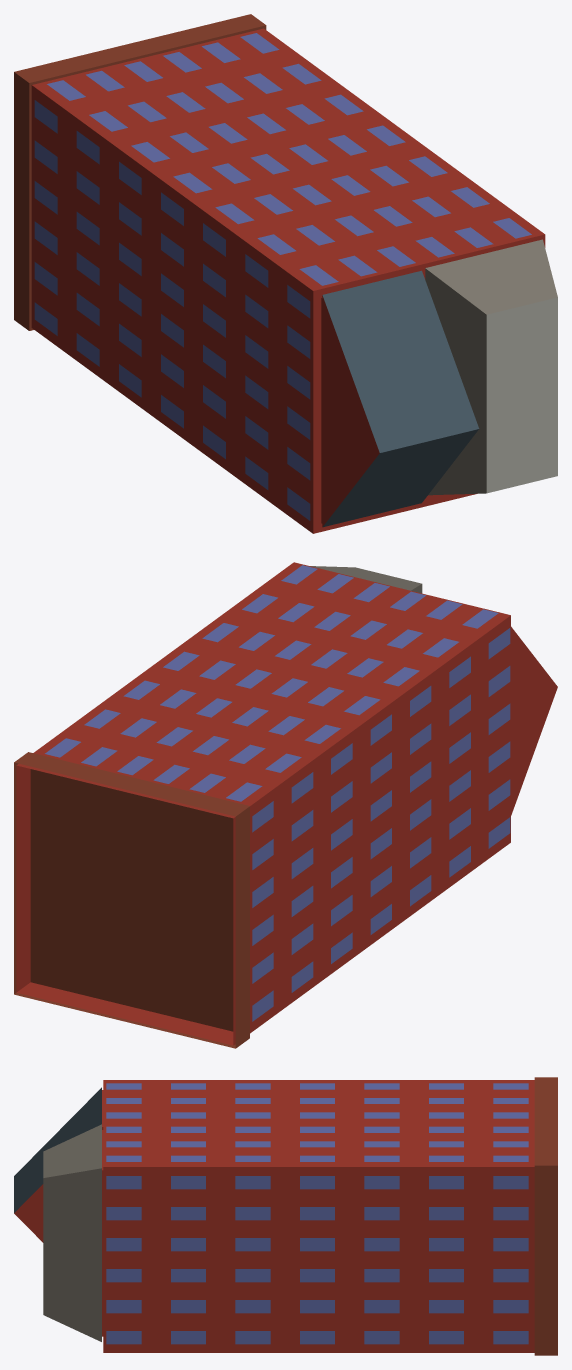
The model's file is complete.glb.
3 views of the same model, one above another, from view 1: azimuth 30°, elevation 25°; view 2: azimuth 150°, elevation 25°; view 3: azimuth 270°, elevation 25° (orthographic). The views are drawn at different scales.
Visible parts, largest first — view 1: done; view 2: done; view 3: done.
Part boxes in pixels (bbox=[...]): done: bbox=[14, 14, 557, 533]; done: bbox=[14, 562, 557, 1048]; done: bbox=[14, 1077, 557, 1355].
Size of the model in its own units: 14.3 by 14.3 by 37.1.
